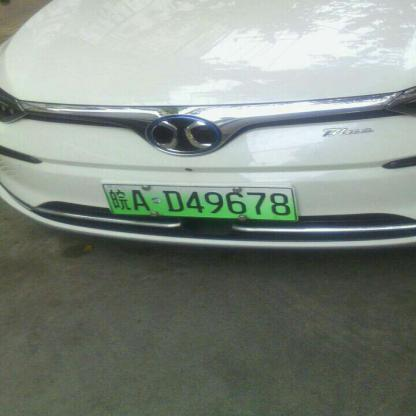lp: (101, 185, 297, 220)
